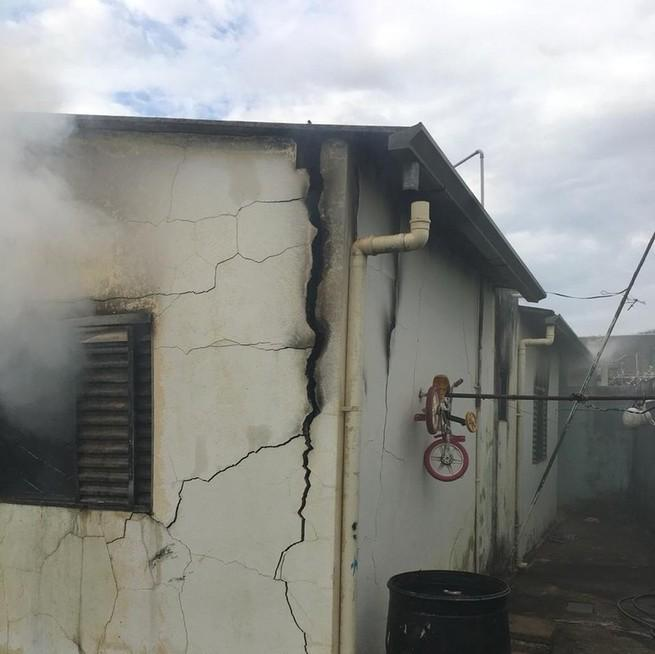smoke: (5, 172, 83, 403)
